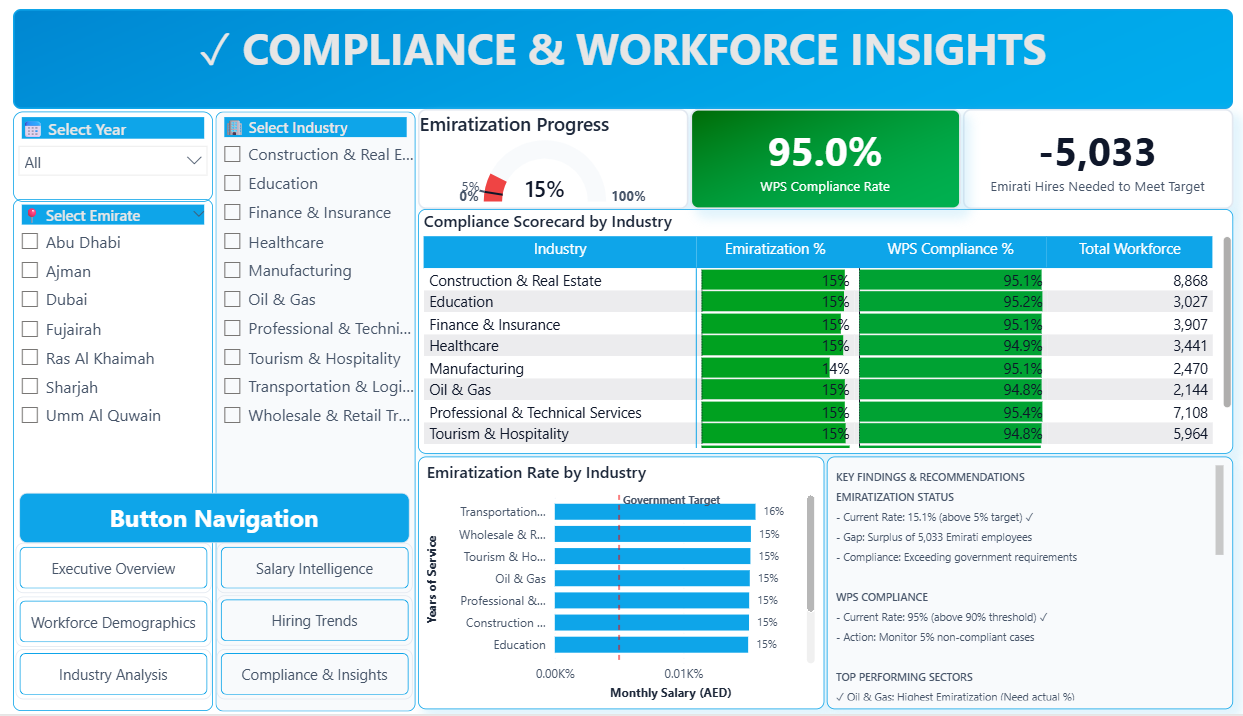

What the dashboard file says about the page in this screenshot:
{"tool":"powerbi","page":{"name":"Compliance & Insights","canvas":[1280,720],"ordinal":5},"visuals":[{"type":"image","box":[30,14.8,1220,100.1],"z":0},{"type":"image","box":[707.6,115,270,100],"z":0,"group":"g1"},{"type":"textbox","box":[30,14.8,1220,100.1],"z":1000},{"type":"gauge","title":"Emiratization Progress","fields":{"Y":["All Measures.Emiratization %"],"TargetValue":["All Measures.Emiratization Target"]},"box":[435.1,115,270,100],"z":2000},{"type":"card","fields":{"Values":["All Measures.Emiratization Gap"]},"box":[980,115,270,100],"z":3000},{"type":"card","fields":{"Values":["All Measures.WPS Compliance %"]},"box":[707.6,115,270,100],"z":4000,"group":"g1"},{"type":"pivotTable","title":"Compliance Scorecard by Industry","fields":{"Rows":["compliance_data.Industry"],"Values":["All Measures.Emiratization %","All Measures.WPS Compliance %","All Measures.Total Workforce"]},"box":[435,215,815,245],"z":4000},{"type":"clusteredBarChart","title":"Emiratization Rate by Industry","fields":{"Category":["compliance_data.Industry"],"Y":["All Measures.Emiratization %"]},"box":[435.4,463,406,253],"z":5000},{"type":"group","id":"g1","title":"Group 1","box":[707.6,115,270,100],"z":6000},{"type":"textbox","box":[635,488.8,152.5,40],"z":7000},{"type":"textbox","box":[844,463,406,253],"z":8000},{"type":"slicer","fields":{"Values":["Date.Year"]},"box":[30,117.5,200,90],"z":9000},{"type":"slicer","fields":{"Values":["workforce_data.Emirate"]},"box":[30,205.5,200,512],"z":10000},{"type":"slicer","fields":{"Values":["workforce_data.Industry"]},"box":[232.6,117,200.3,600],"z":11000},{"type":"actionButton","box":[32,548.8,196,50],"z":11001},{"type":"actionButton","box":[32,601.9,196,50],"z":11002},{"type":"actionButton","box":[32,655,196,50],"z":11003},{"type":"actionButton","box":[234,548.3,196,50],"z":11004},{"type":"actionButton","box":[234,601.6,196,50],"z":11005},{"type":"actionButton","box":[234,655,196,50],"z":11006},{"type":"textbox","box":[36,498.8,390,50],"z":11007}]}

Visuals, with their boxes in screenshot pixels (x1, y1, x2, y2), scaled from the page's 1280x720 canvas onto the 1243x716 screenshot:
image: <region>29, 15, 1214, 114</region>
image: <region>687, 114, 949, 214</region>
textbox: <region>29, 15, 1214, 114</region>
"Emiratization Progress" gauge: <region>423, 114, 685, 214</region>
card - All Measures.Emiratization Gap: <region>952, 114, 1214, 214</region>
card - All Measures.WPS Compliance %: <region>687, 114, 949, 214</region>
"Compliance Scorecard by Industry" pivotTable: <region>422, 214, 1214, 457</region>
"Emiratization Rate by Industry" clusteredBarChart: <region>423, 460, 817, 712</region>
"Group 1" group: <region>687, 114, 949, 214</region>
textbox: <region>617, 486, 765, 526</region>
textbox: <region>820, 460, 1214, 712</region>
slicer - Date.Year: <region>29, 117, 223, 206</region>
slicer - workforce_data.Emirate: <region>29, 204, 223, 714</region>
slicer - workforce_data.Industry: <region>226, 116, 420, 713</region>
actionButton: <region>31, 546, 221, 595</region>
actionButton: <region>31, 599, 221, 648</region>
actionButton: <region>31, 651, 221, 701</region>
actionButton: <region>227, 545, 418, 595</region>
actionButton: <region>227, 598, 418, 648</region>
actionButton: <region>227, 651, 418, 701</region>
textbox: <region>35, 496, 414, 546</region>
